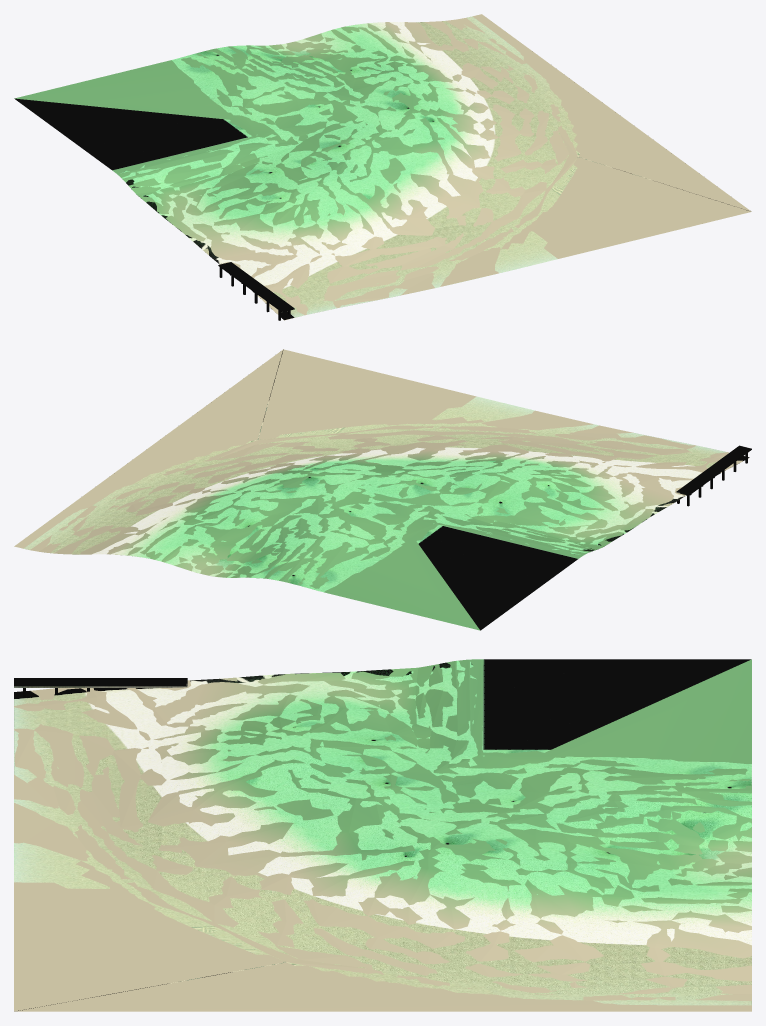
File: IslandQ_es-transformed.glb
The picture shows the model from 3 angles, top to bottom: view 1: azimuth 30°, elevation 25°; view 2: azimuth 150°, elevation 25°; view 3: azimuth 270°, elevation 25°; orthographic projection. The views are drawn at different scales.
Parts seen in each view (by area): view 1: IslandQ_p_n.001_proxy, IslandQ_es; view 2: IslandQ_p_n.001_proxy, IslandQ_es; view 3: IslandQ_p_n.001_proxy, IslandQ_es.
Boxes of the visible parts, box(x1,y1,x2,y2) form: IslandQ_p_n.001_proxy: box(14, 14, 751, 320); IslandQ_es: box(14, 16, 748, 320); IslandQ_p_n.001_proxy: box(14, 349, 748, 630); IslandQ_es: box(23, 349, 751, 630); IslandQ_p_n.001_proxy: box(14, 659, 751, 1011); IslandQ_es: box(14, 659, 751, 1010).
Bounding box in the file's own units: 162 × 11.33 × 161.
1 material, 1 textured.
